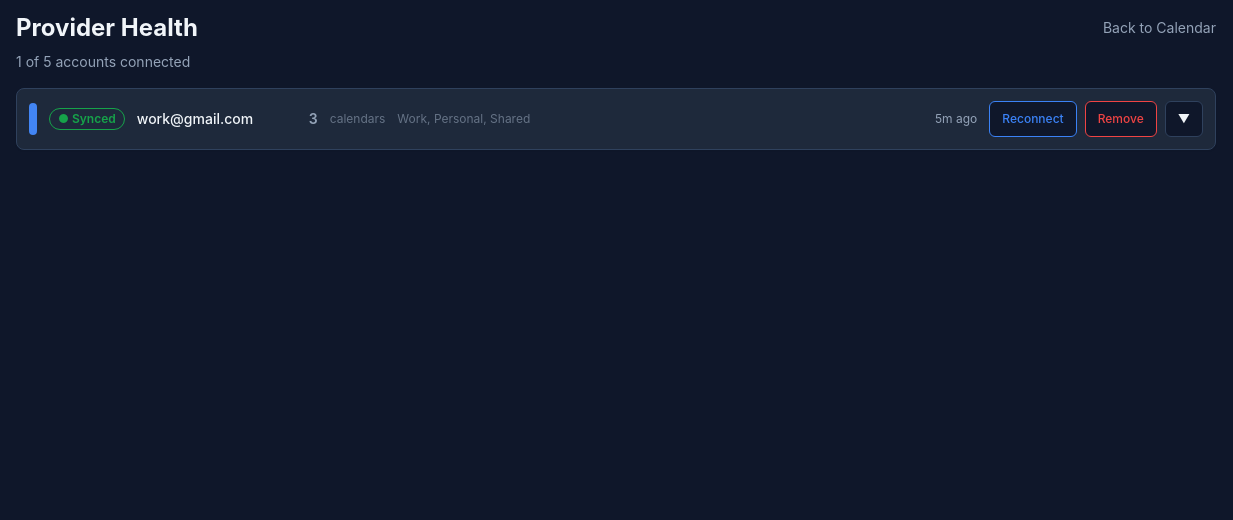
ProviderHealth Dashboard › token info in detail view › shows 'Expired' for expired tokens
The image size is (1233, 520).
Click the button with test id "expand-btn".
click(1184, 119)  # box [1165,101,1203,137]
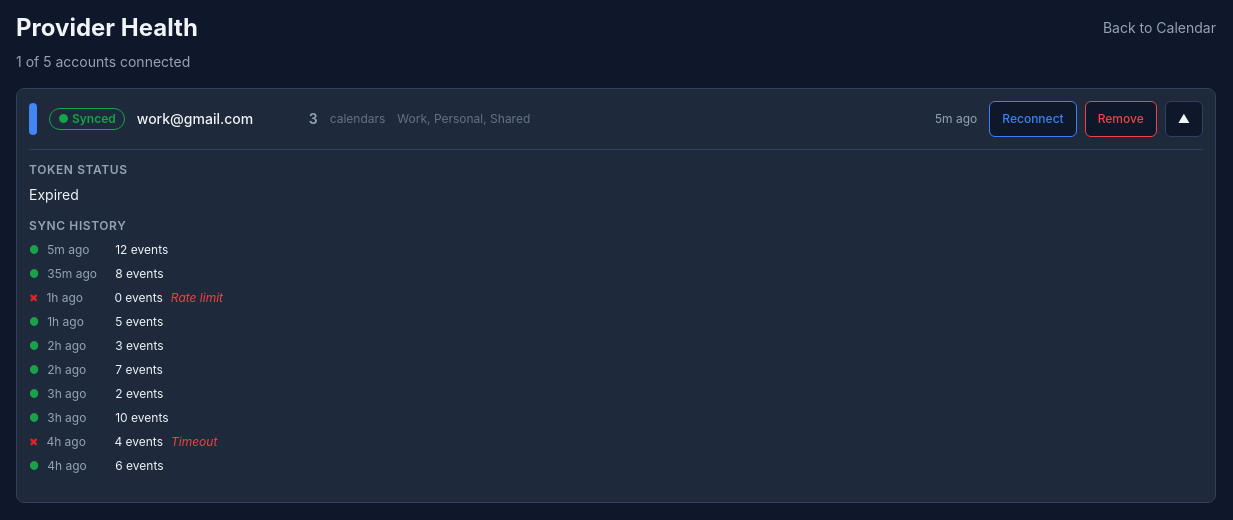
Check: the text with test id "token-expiry" reads "Expired", box [29,186,79,203]
